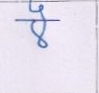ai_matra: (30, 1, 48, 19)
